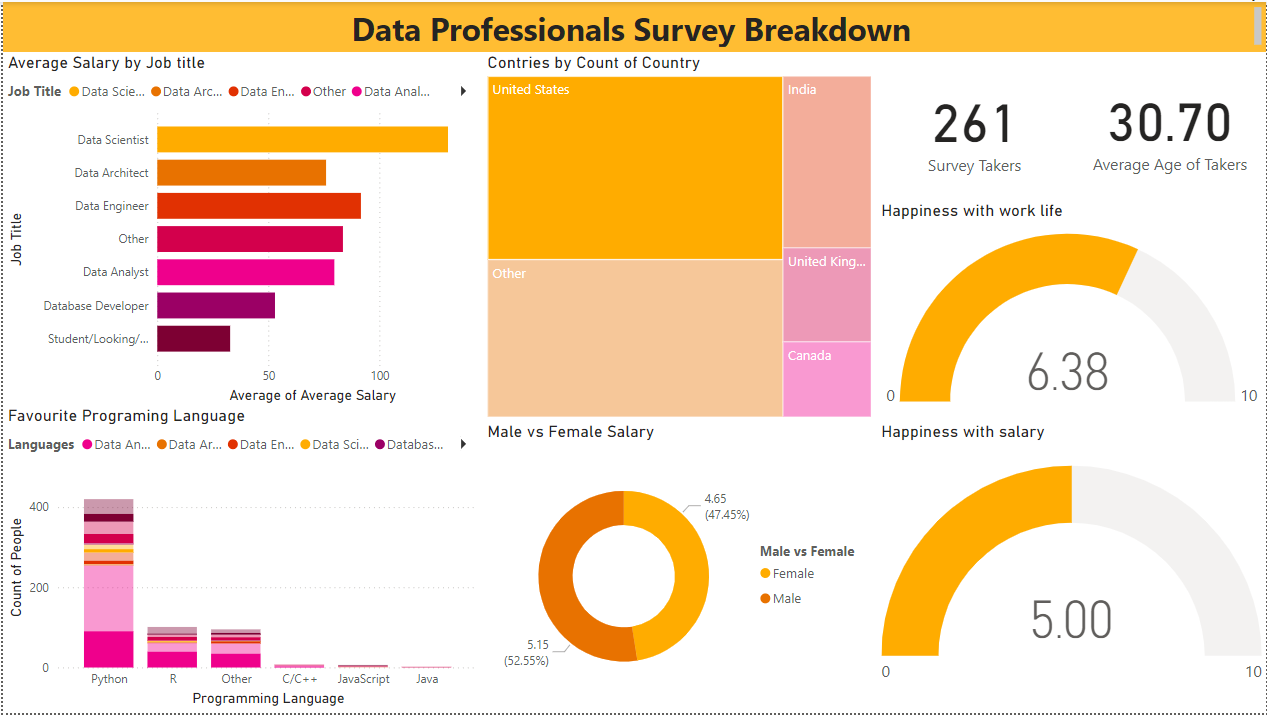

What the dashboard file says about the page in this screenshot:
{"tool":"powerbi","page":{"name":"Page 1","canvas":[1280,720],"ordinal":0},"visuals":[{"type":"textbox","box":[0,0,1280.1,50.7],"z":0},{"type":"card","fields":{"Values":["CountNonNull(Data Professional Survey.Unique ID)"]},"box":[884.8,51.8,198.7,150.3],"z":1},{"type":"card","fields":{"Values":["Avg(Data Professional Survey.Q10 - Current Age)"]},"box":[1083.5,51.8,197,148.6],"z":2},{"type":"barChart","title":"Average Salary by Job title","fields":{"Category":["Data Professional Survey.Q1 - Which Title Best Fits your Current Role?.1"],"Y":["Avg(Data Professional Survey.Average Salary)"],"Series":["Data Professional Survey.Q1 - Which Title Best Fits your Current Role?.1"]},"box":[0,50.7,486.1,360.2],"z":3},{"type":"columnChart","title":"Favourite Programing Language","fields":{"Category":["Data Professional Survey.Q5 - Favorite Programming Language.1"],"Y":["CountNonNull(Data Professional Survey.Unique ID)"],"Series":["Data Professional Survey.Q1 - Which Title Best Fits your Current Role?.1"]},"box":[0,409.2,486.1,309.5],"z":4},{"type":"treemap","fields":{"Group":["Data Professional Survey.Q11 - Which Country do you live in?.1"],"Values":["CountNonNull(Data Professional Survey.Q11 - Which Country do you live in?.1)"]},"box":[486.1,50.7,398.7,374.2],"z":5},{"type":"gauge","title":"Happiness with work life","fields":{"MinValue":["Min(Data Professional Survey.Q6 - How Happy are you in your Current Position with the following? (Work/Life Balance))"],"Y":["Avg(Data Professional Survey.Q6 - How Happy are you in your Current Position with the following? (Work/Life Balance))"],"MaxValue":["Max(Data Professional Survey.Q6 - How Happy are you in your Current Position with the following? (Work/Life Balance))1"]},"box":[884.8,202,395.7,222],"z":6},{"type":"gauge","title":"Happiness with salary","fields":{"Y":["Avg(Data Professional Survey.Q6 - How Happy are you in your Current Position with the following? (Salary))"],"MinValue":["Min(Data Professional Survey.Q6 - How Happy are you in your Current Position with the following? (Salary))"],"MaxValue":["Max(Data Professional Survey.Q6 - How Happy are you in your Current Position with the following? (Salary))"]},"box":[884.8,424.9,395.2,293.8],"z":7},{"type":"donutChart","title":"Male vs Female Salary","fields":{"Category":["Data Professional Survey.Q9 - Male/Female?"],"Y":["Avg(Data Professional Survey.Q6 - How Happy are you in your Current Position with the following? (Salary))"]},"box":[486.1,424.9,398.7,293.8],"z":8}]}

Visuals, with their boxes in screenshot pixels (x1, y1, x2, y2), scaled from the page's 1280x720 canvas onto the 1267x716 screenshot:
textbox: bbox=(0, 0, 1266, 50)
card - CountNonNull(Data Professional Survey.Unique ID): bbox=(876, 52, 1072, 201)
card - Avg(Data Professional Survey.Q10 - Current Age): bbox=(1072, 52, 1266, 199)
"Average Salary by Job title" barChart: bbox=(0, 50, 481, 409)
"Favourite Programing Language" columnChart: bbox=(0, 407, 481, 715)
treemap - Data Professional Survey.Q11 - Which Country do you live in?.1 x CountNonNull(Data Professional Survey.Q11 - Which Country do you live in?.1): bbox=(481, 50, 876, 423)
"Happiness with work life" gauge: bbox=(876, 201, 1266, 422)
"Happiness with salary" gauge: bbox=(876, 423, 1266, 715)
"Male vs Female Salary" donutChart: bbox=(481, 423, 876, 715)
